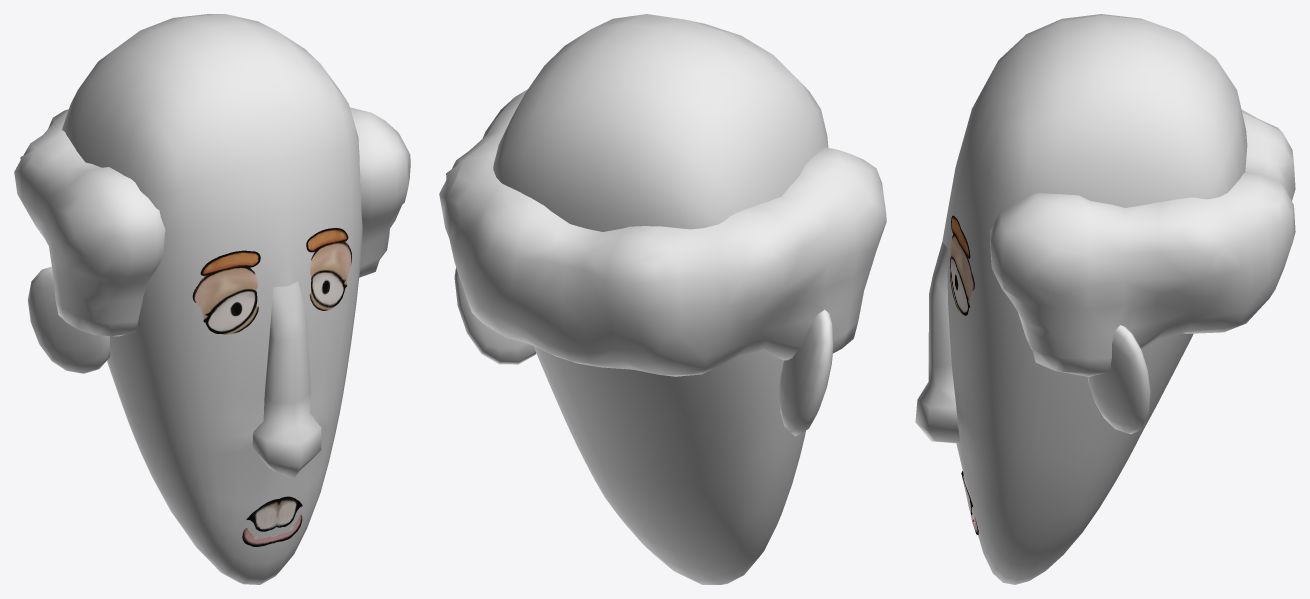
File: Character 1.fbx
3 renders of one model, left to right at view 1: azimuth 30°, elevation 25°; view 2: azimuth 150°, elevation 25°; view 3: azimuth 270°, elevation 25°, orthographic. The views are drawn at different scales.
Parts seen in each view (by area): view 1: Cube, Cube.001; view 2: Cube; view 3: Cube, Cube.001.
Boxes of the visible parts, x1=… form: Cube: x1=14, y1=14, x2=410, y2=584; Cube.001: x1=192, y1=228, x2=351, y2=546; Cube: x1=439, y1=14, x2=886, y2=584; Cube: x1=915, y1=14, x2=1295, y2=584; Cube.001: x1=950, y1=215, x2=978, y2=534.
Bounding box in the file's own units: 230 × 370 × 250.
